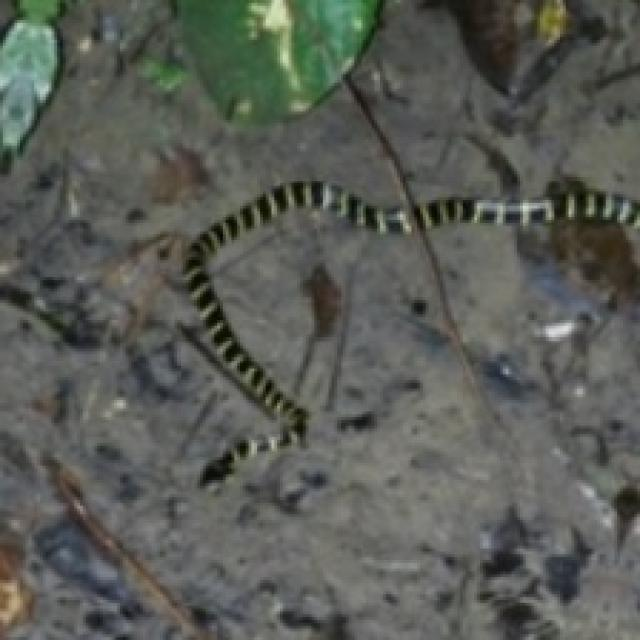mangrove cat snake: (180, 180, 637, 440), (200, 434, 286, 483)
